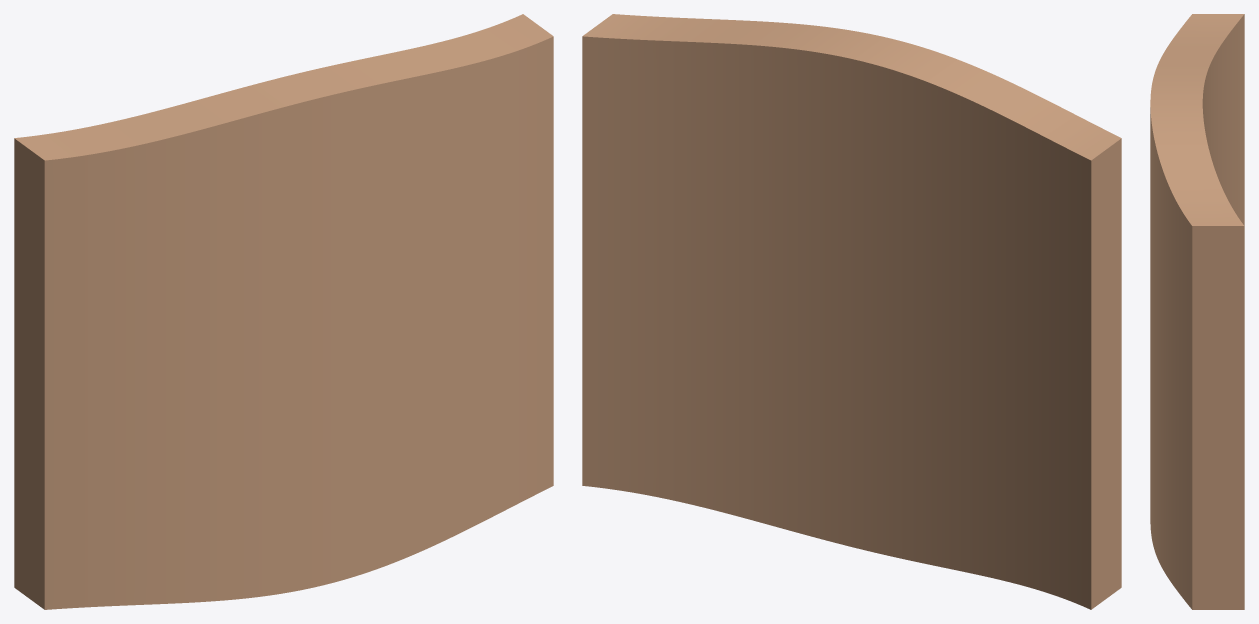
Rendered from POT2.glb.
The picture shows the model from 3 angles, left to right: view 1: azimuth 30°, elevation 25°; view 2: azimuth 150°, elevation 25°; view 3: azimuth 270°, elevation 25°; orthographic projection. The views are drawn at different scales.
Parts seen in each view (by area): view 1: POT2/0000_curved_shard; view 2: POT2/0000_curved_shard; view 3: POT2/0000_curved_shard.
Part boxes in pixels (x1,y1,x2,y2): POT2/0000_curved_shard: (14, 14, 553, 609); POT2/0000_curved_shard: (582, 14, 1121, 609); POT2/0000_curved_shard: (1150, 14, 1244, 609).
Size of the model in its own units: 0.12 by 0.11 by 0.0225.
